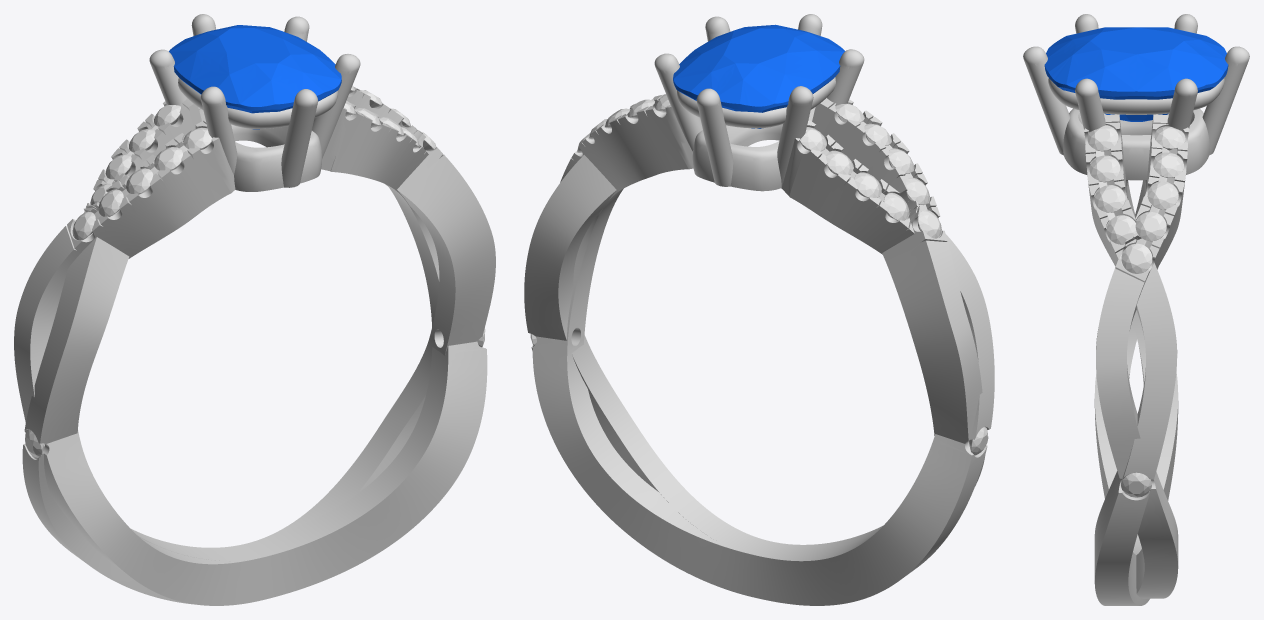
The model's file is bluesapphire-cushion-platinum-6prong-twist-sidestones.glb.
The picture shows the model from 3 angles, left to right: view 1: azimuth 30°, elevation 25°; view 2: azimuth 150°, elevation 25°; view 3: azimuth 270°, elevation 25°; orthographic projection.
Parts seen in each view (by area): view 1: metal, stone; view 2: metal, stone; view 3: metal, stone, side.015, side.016, side.017, side.012, side.011, side.013, side.018, side.014, side.010, side.019.
Part boxes in pixels (<box>): metal: <box>14,14,495,605</box>; stone: <box>169,25,341,129</box>; metal: <box>524,14,994,605</box>; stone: <box>673,24,845,128</box>; metal: <box>1023,14,1249,605</box>; stone: <box>1044,27,1228,121</box>; side.015: <box>1121,243,1152,273</box>; side.016: <box>1135,212,1166,241</box>; side.017: <box>1147,181,1178,209</box>; side.012: <box>1094,185,1125,212</box>; side.011: <box>1106,215,1136,244</box>; side.013: <box>1089,155,1120,182</box>; side.018: <box>1153,152,1183,177</box>; side.014: <box>1087,125,1118,151</box>; side.010: <box>1121,472,1151,497</box>; side.019: <box>1154,126,1185,148</box>.
Size of the model in its own units: 19.97 by 23.03 by 8.8.
